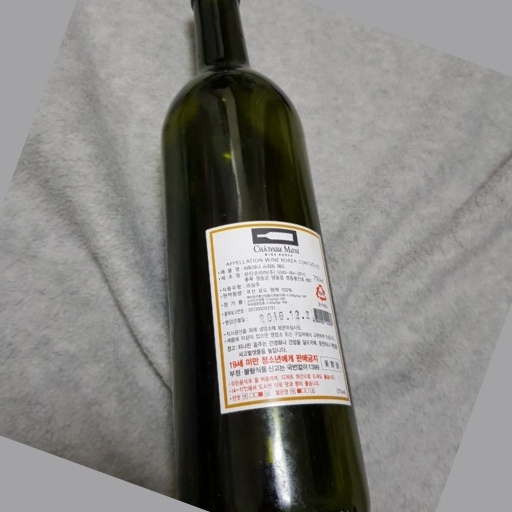Glass_2: (154, 1, 374, 512)
